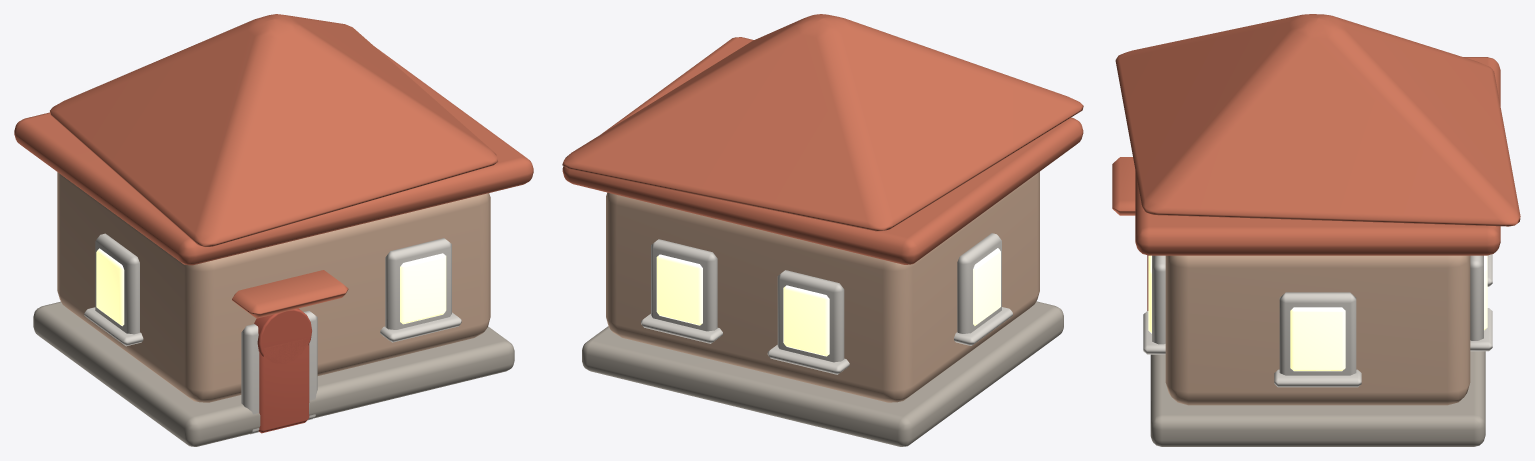
3 renders of one model, left to right at view 1: azimuth 30°, elevation 25°; view 2: azimuth 150°, elevation 25°; view 3: azimuth 270°, elevation 25°, orthographic. The views are drawn at different scales.
Parts seen in each view (by area): view 1: Cube; view 2: Cube; view 3: Cube.
Boxes of the visible parts, x1,y1,x2,y2 form: Cube: (14, 14, 533, 446); Cube: (562, 14, 1083, 446); Cube: (1112, 14, 1520, 446).
Bounding box in the file's own units: 0.56 × 0.5055 × 0.536.
